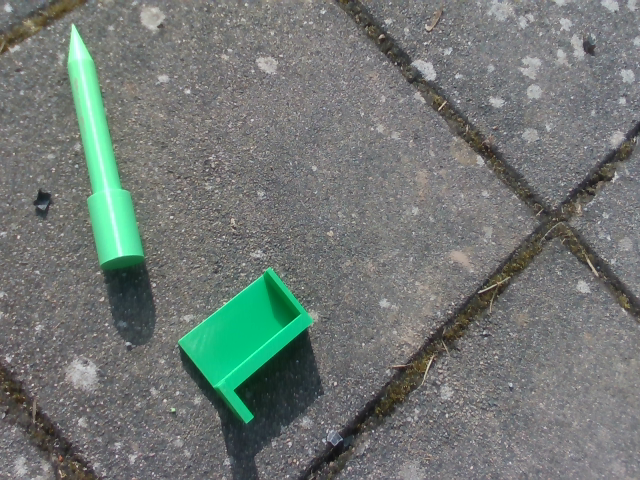Probe: (55, 16, 157, 280)
